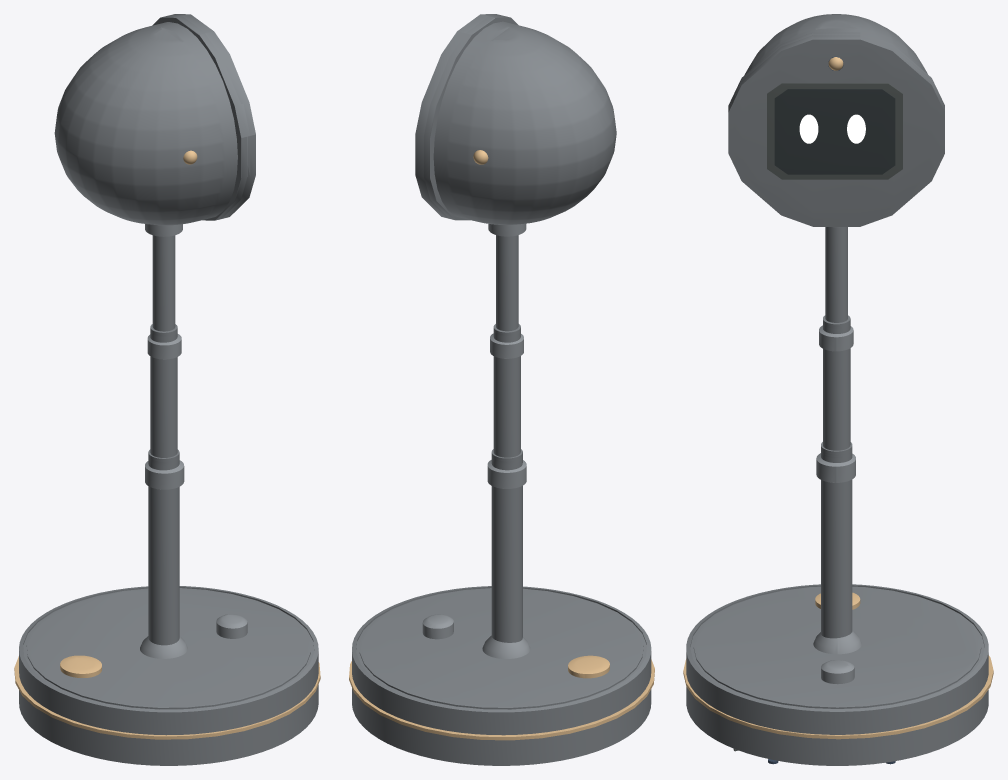
Rendered from domovoy_grafit.glb.
3 views of the same model, side by side, from view 1: azimuth 30°, elevation 25°; view 2: azimuth 150°, elevation 25°; view 3: azimuth 270°, elevation 25° (orthographic).
Parts seen in each view (by area): view 1: teal, teal2, copper; view 2: teal, teal2, copper; view 3: teal, screen, teal2, dark, copper, glow.
Part boxes in pixels (box(x1,y1,x2,y2)): teal: box(19, 14, 318, 765); teal2: box(140, 224, 247, 658); copper: box(14, 150, 320, 739); teal: box(352, 14, 651, 765); teal2: box(422, 223, 530, 658); copper: box(349, 150, 654, 740); teal: box(686, 14, 988, 765); screen: box(774, 89, 895, 174); teal2: box(813, 227, 861, 684); dark: box(733, 83, 902, 751); copper: box(683, 57, 993, 739); glow: box(799, 114, 865, 143).
Size of the model in its own units: 0.3584 by 0.8835 by 0.359.
